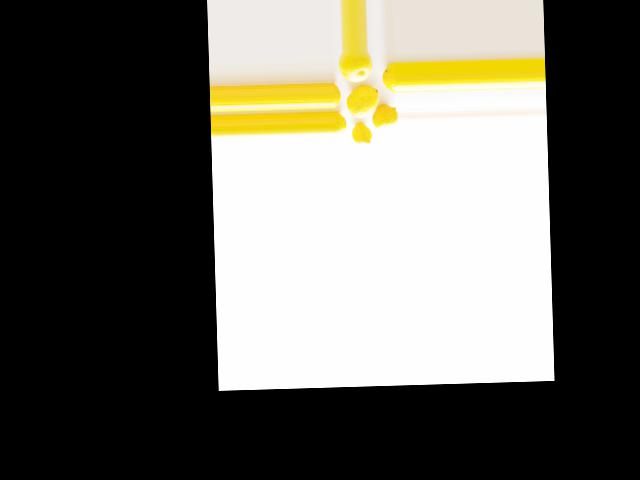lemon: (379, 66, 398, 97)
